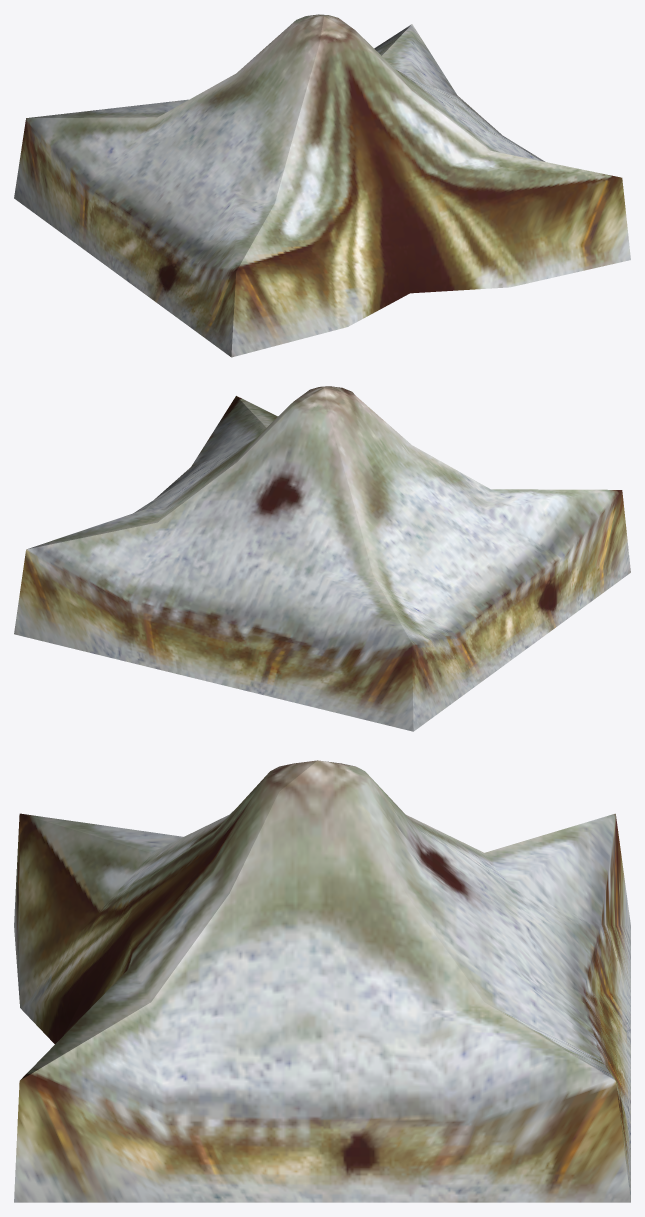
Rendered from Civilian - Civilian Building - Tent 03 - Snow - CBTTent03_S.glb.
3 renders of one model, top to bottom at view 1: azimuth 30°, elevation 25°; view 2: azimuth 150°, elevation 25°; view 3: azimuth 270°, elevation 25°, orthographic. The views are drawn at different scales.
Parts seen in each view (by area): view 1: CBTTENT03_S; view 2: CBTTENT03_S; view 3: CBTTENT03_S.
Boxes of the visible parts, x1,y1,x2,y2 form: CBTTENT03_S: [14, 14, 630, 357]; CBTTENT03_S: [14, 386, 630, 731]; CBTTENT03_S: [14, 760, 630, 1202].
Size of the model in its own units: 27.15 by 13.9 by 25.59.
Materials: 1 (1 with a texture image).
